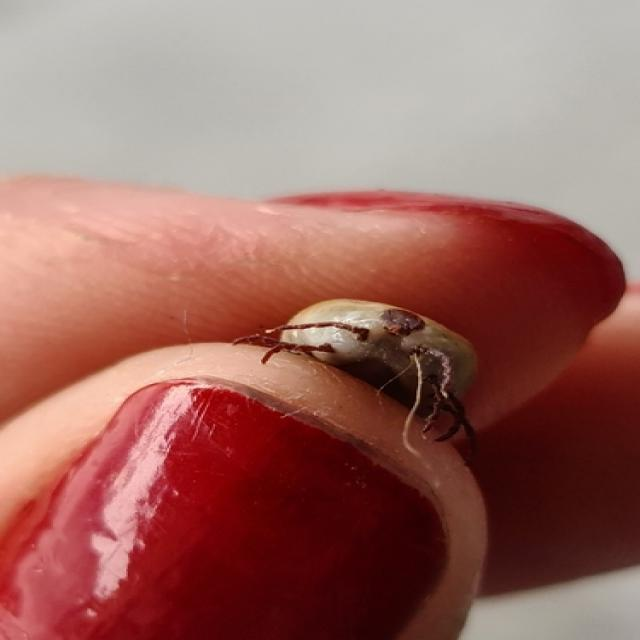Rhipicephalus Sanguineus-F-Fed: (228, 301, 486, 471)
